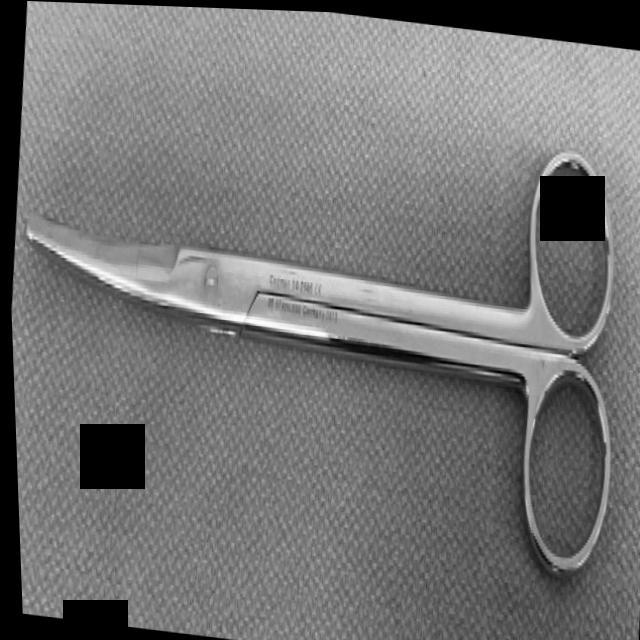Curved Mayo: (2, 73, 640, 595)
